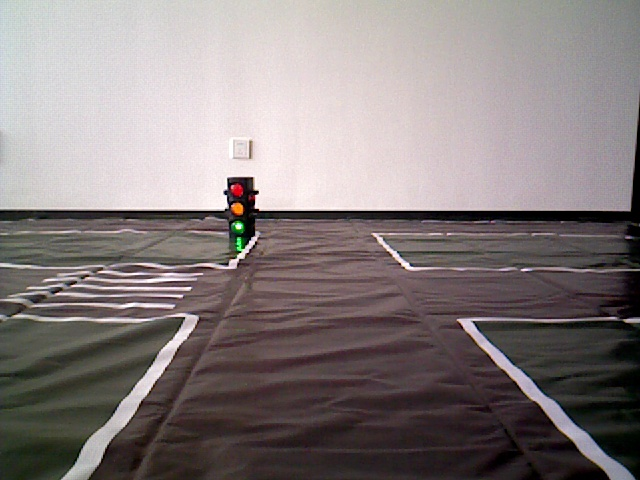green: (228, 177, 249, 230)
